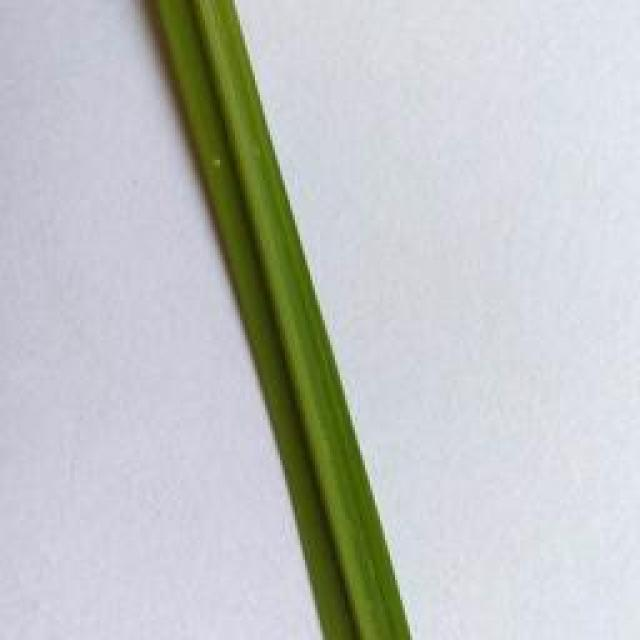Healthy-Plant: (152, 0, 408, 640)
